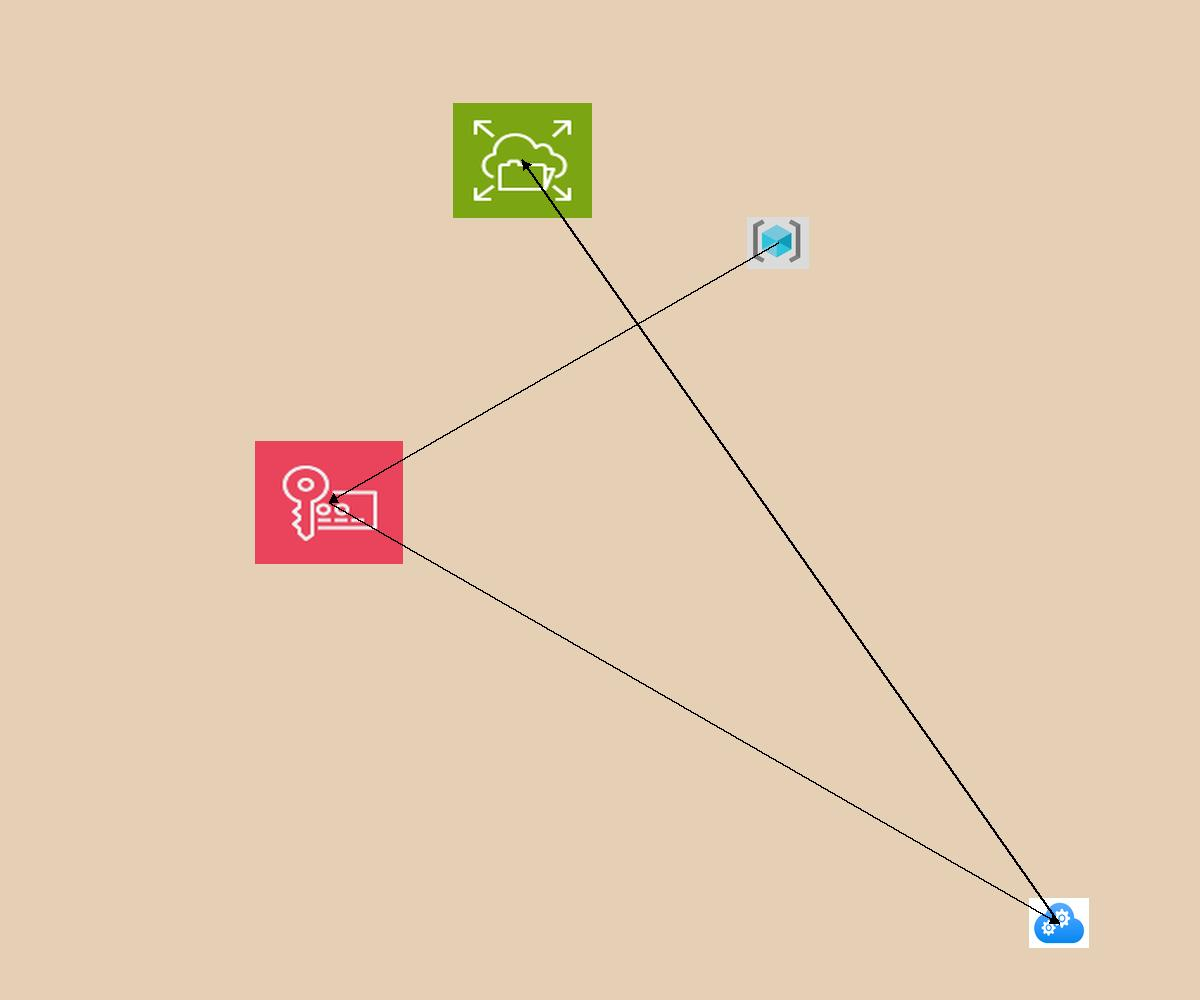AWS-EFS: (453, 103, 592, 218)
AWS-Key-Management-Service: (255, 441, 403, 564)
Azure_cloud_services: (1029, 898, 1089, 948)
Azure_resource_group: (747, 217, 809, 269)
